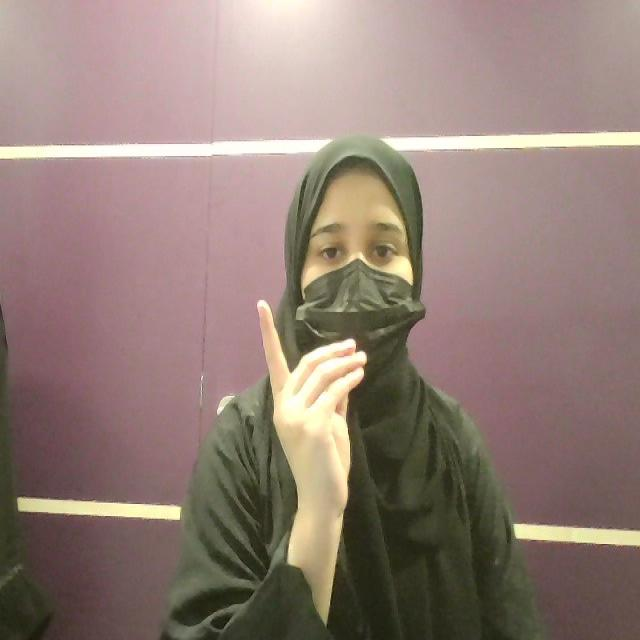emergency: (255, 298, 372, 538)
